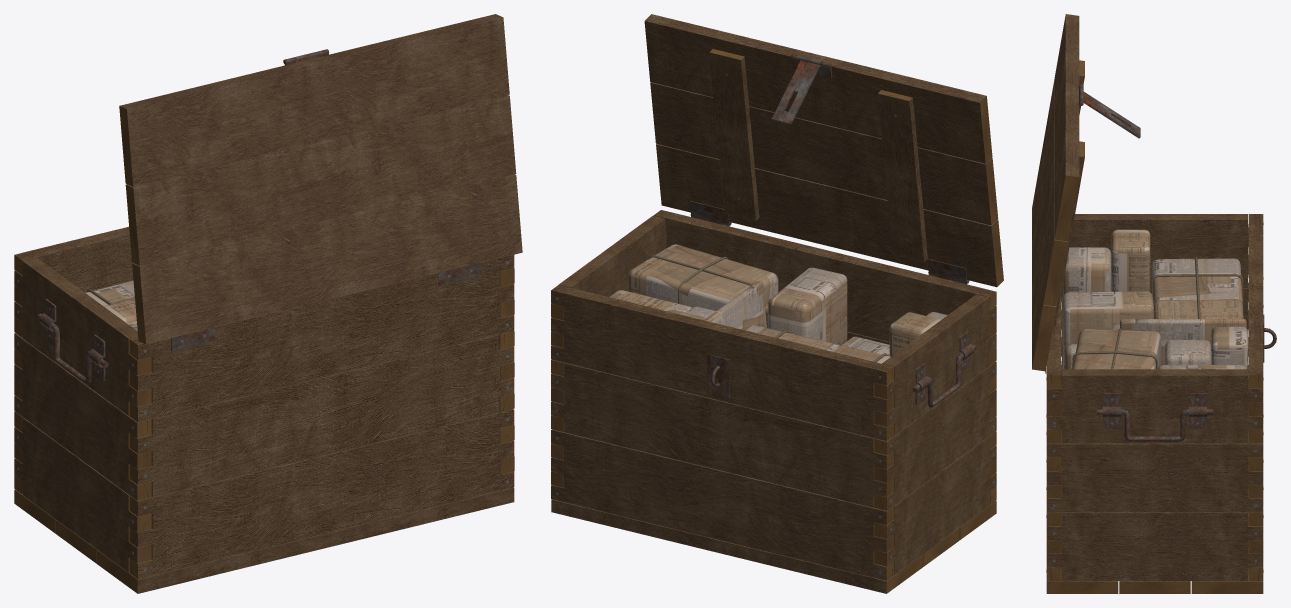
The model's file is Wooden Box.fbx.
3 renders of one model, left to right at view 1: azimuth 30°, elevation 25°; view 2: azimuth 150°, elevation 25°; view 3: azimuth 270°, elevation 25°, orthographic. The views are drawn at different scales.
Parts seen in each view (by area): view 1: PS_Tapak_Atas_003, PS_Depan_002, PS_Tapak_Atas_001, PS_Tapak_Atas_002, PS_Depan_003, PS_Depan_001, PS_Tepi_001, PS_Tepi_003, PS_Tepi_002, PS_Tapak_Bawah_003, PS_Depan_002_Ensel, PS_Pemegang_001 (+2 smaller); view 2: PS_Depan_002, PS_Depan_003, PS_Depan_001, PS_Tapak_Atas_003, PS_Tapak_Atas_002, PS_Tapak_Atas_001, PS_Tapak_Atas_004, PS_Tepi_002, PS_Tepi_001, PS_Tepi_003, PS_Props_009, PS_Tapak_Bawah_001 (+9 smaller); view 3: PS_Tepi_002, PS_Tepi_001, PS_Tepi_003, PS_Props_006, PS_Tapak_Atas_003, PS_Depan_002, PS_Props_008, PS_Props_009, PS_Tapak_Atas_002, PS_Tapak_Atas_001, PS_Props_013, PS_Props_012 (+14 smaller).
Part boxes in pixels (bbox=[...]): PS_Tapak_Atas_003: bbox=[119, 14, 509, 186]; PS_Depan_002: bbox=[14, 226, 514, 422]; PS_Tapak_Atas_001: bbox=[132, 174, 522, 344]; PS_Tapak_Atas_002: bbox=[125, 95, 516, 265]; PS_Depan_003: bbox=[14, 409, 514, 578]; PS_Depan_001: bbox=[14, 334, 514, 496]; PS_Tepi_001: bbox=[14, 330, 514, 500]; PS_Tepi_003: bbox=[14, 417, 514, 572]; PS_Tepi_002: bbox=[14, 258, 514, 415]; PS_Tapak_Bawah_003: bbox=[97, 487, 514, 593]; PS_Depan_002_Ensel: bbox=[171, 262, 481, 351]; PS_Pemegang_001: bbox=[39, 299, 105, 381]; PS_Depan_002: bbox=[551, 210, 996, 440]; PS_Depan_003: bbox=[551, 429, 996, 580]; PS_Depan_001: bbox=[551, 331, 996, 507]; PS_Tapak_Atas_003: bbox=[644, 14, 992, 163]; PS_Tapak_Atas_002: bbox=[650, 82, 998, 225]; PS_Tapak_Atas_001: bbox=[656, 144, 1003, 287]; PS_Tapak_Atas_004: bbox=[709, 49, 927, 262]; PS_Tepi_002: bbox=[551, 215, 996, 435]; PS_Tepi_001: bbox=[551, 359, 996, 510]; PS_Tepi_003: bbox=[551, 437, 996, 574]; PS_Props_009: bbox=[628, 244, 778, 310]; PS_Tapak_Bawah_001: bbox=[551, 499, 922, 593]; PS_Tepi_002: bbox=[1047, 214, 1262, 443]; PS_Tepi_001: bbox=[1047, 282, 1262, 512]; PS_Tepi_003: bbox=[1047, 361, 1262, 580]; PS_Props_006: bbox=[1151, 258, 1243, 318]; PS_Tapak_Atas_003: bbox=[1054, 14, 1079, 241]; PS_Depan_002: bbox=[1046, 214, 1263, 443]; PS_Props_008: bbox=[1062, 291, 1154, 369]; PS_Props_009: bbox=[1072, 329, 1160, 369]; PS_Tapak_Atas_002: bbox=[1043, 79, 1067, 306]; PS_Tapak_Atas_001: bbox=[1032, 144, 1056, 371]; PS_Props_013: bbox=[1111, 229, 1150, 291]; PS_Props_012: bbox=[1063, 247, 1111, 296].
Bounding box in the file's own units: 31.15 × 36.41 × 19.22.
Materials: 6 (5 with a texture image).
